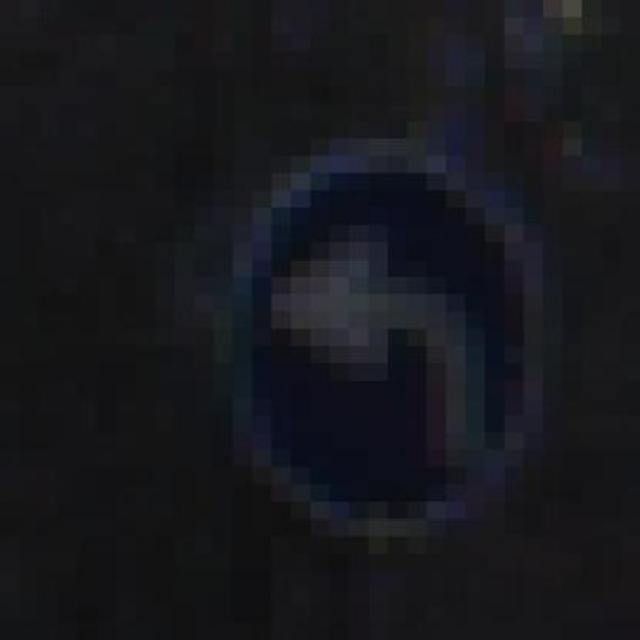Turn left ahead: (198, 127, 547, 542)
